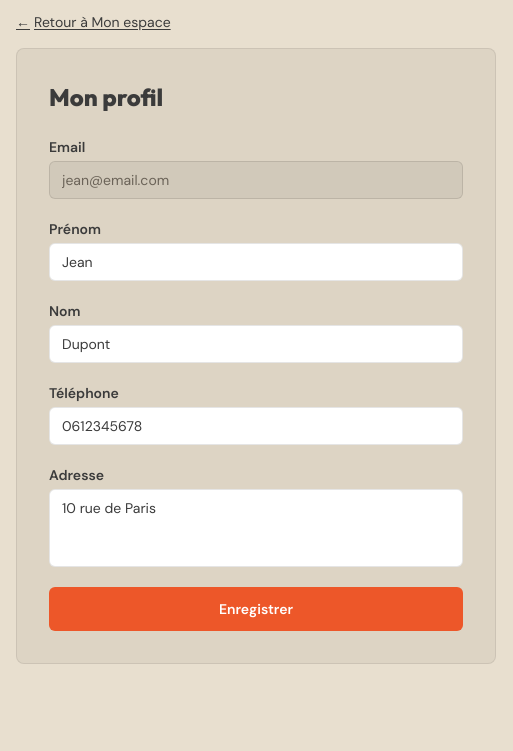
Test case: Profile › affiche un message de succès après une mise à jour réussie
Click the button "Enregistrer" at {"x": 256, "y": 609}, box [49,587,463,631]
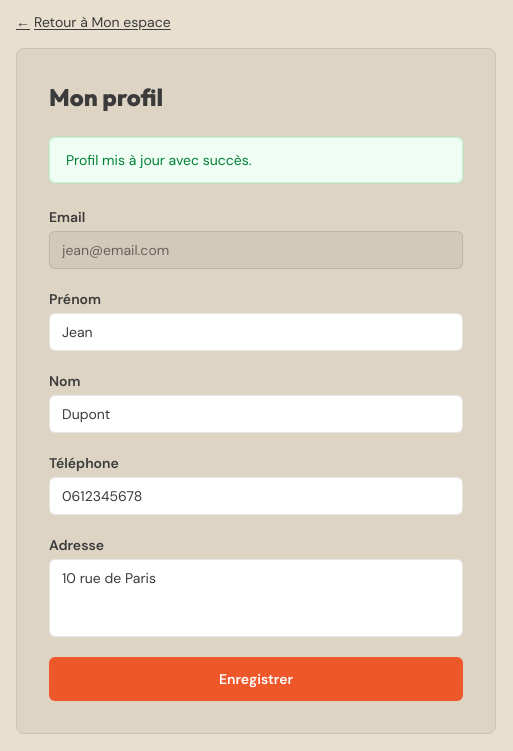
Expected: the message shows "Profil mis à jour", [66,151,252,169]
